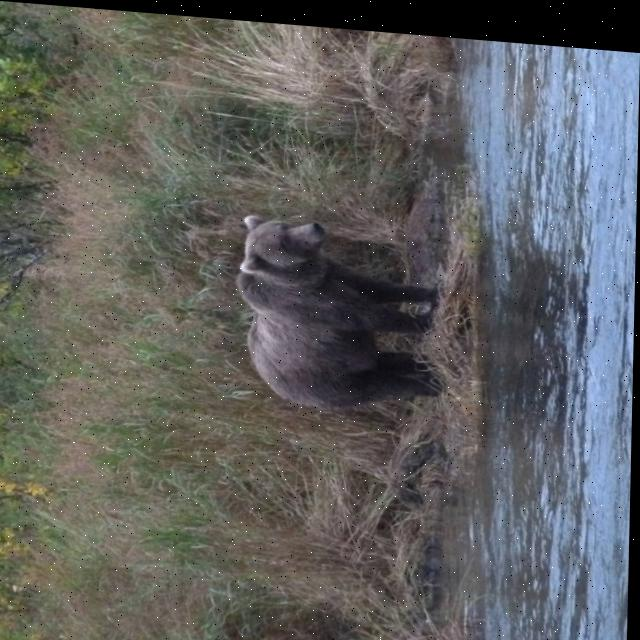bear face: (241, 206, 447, 409)
